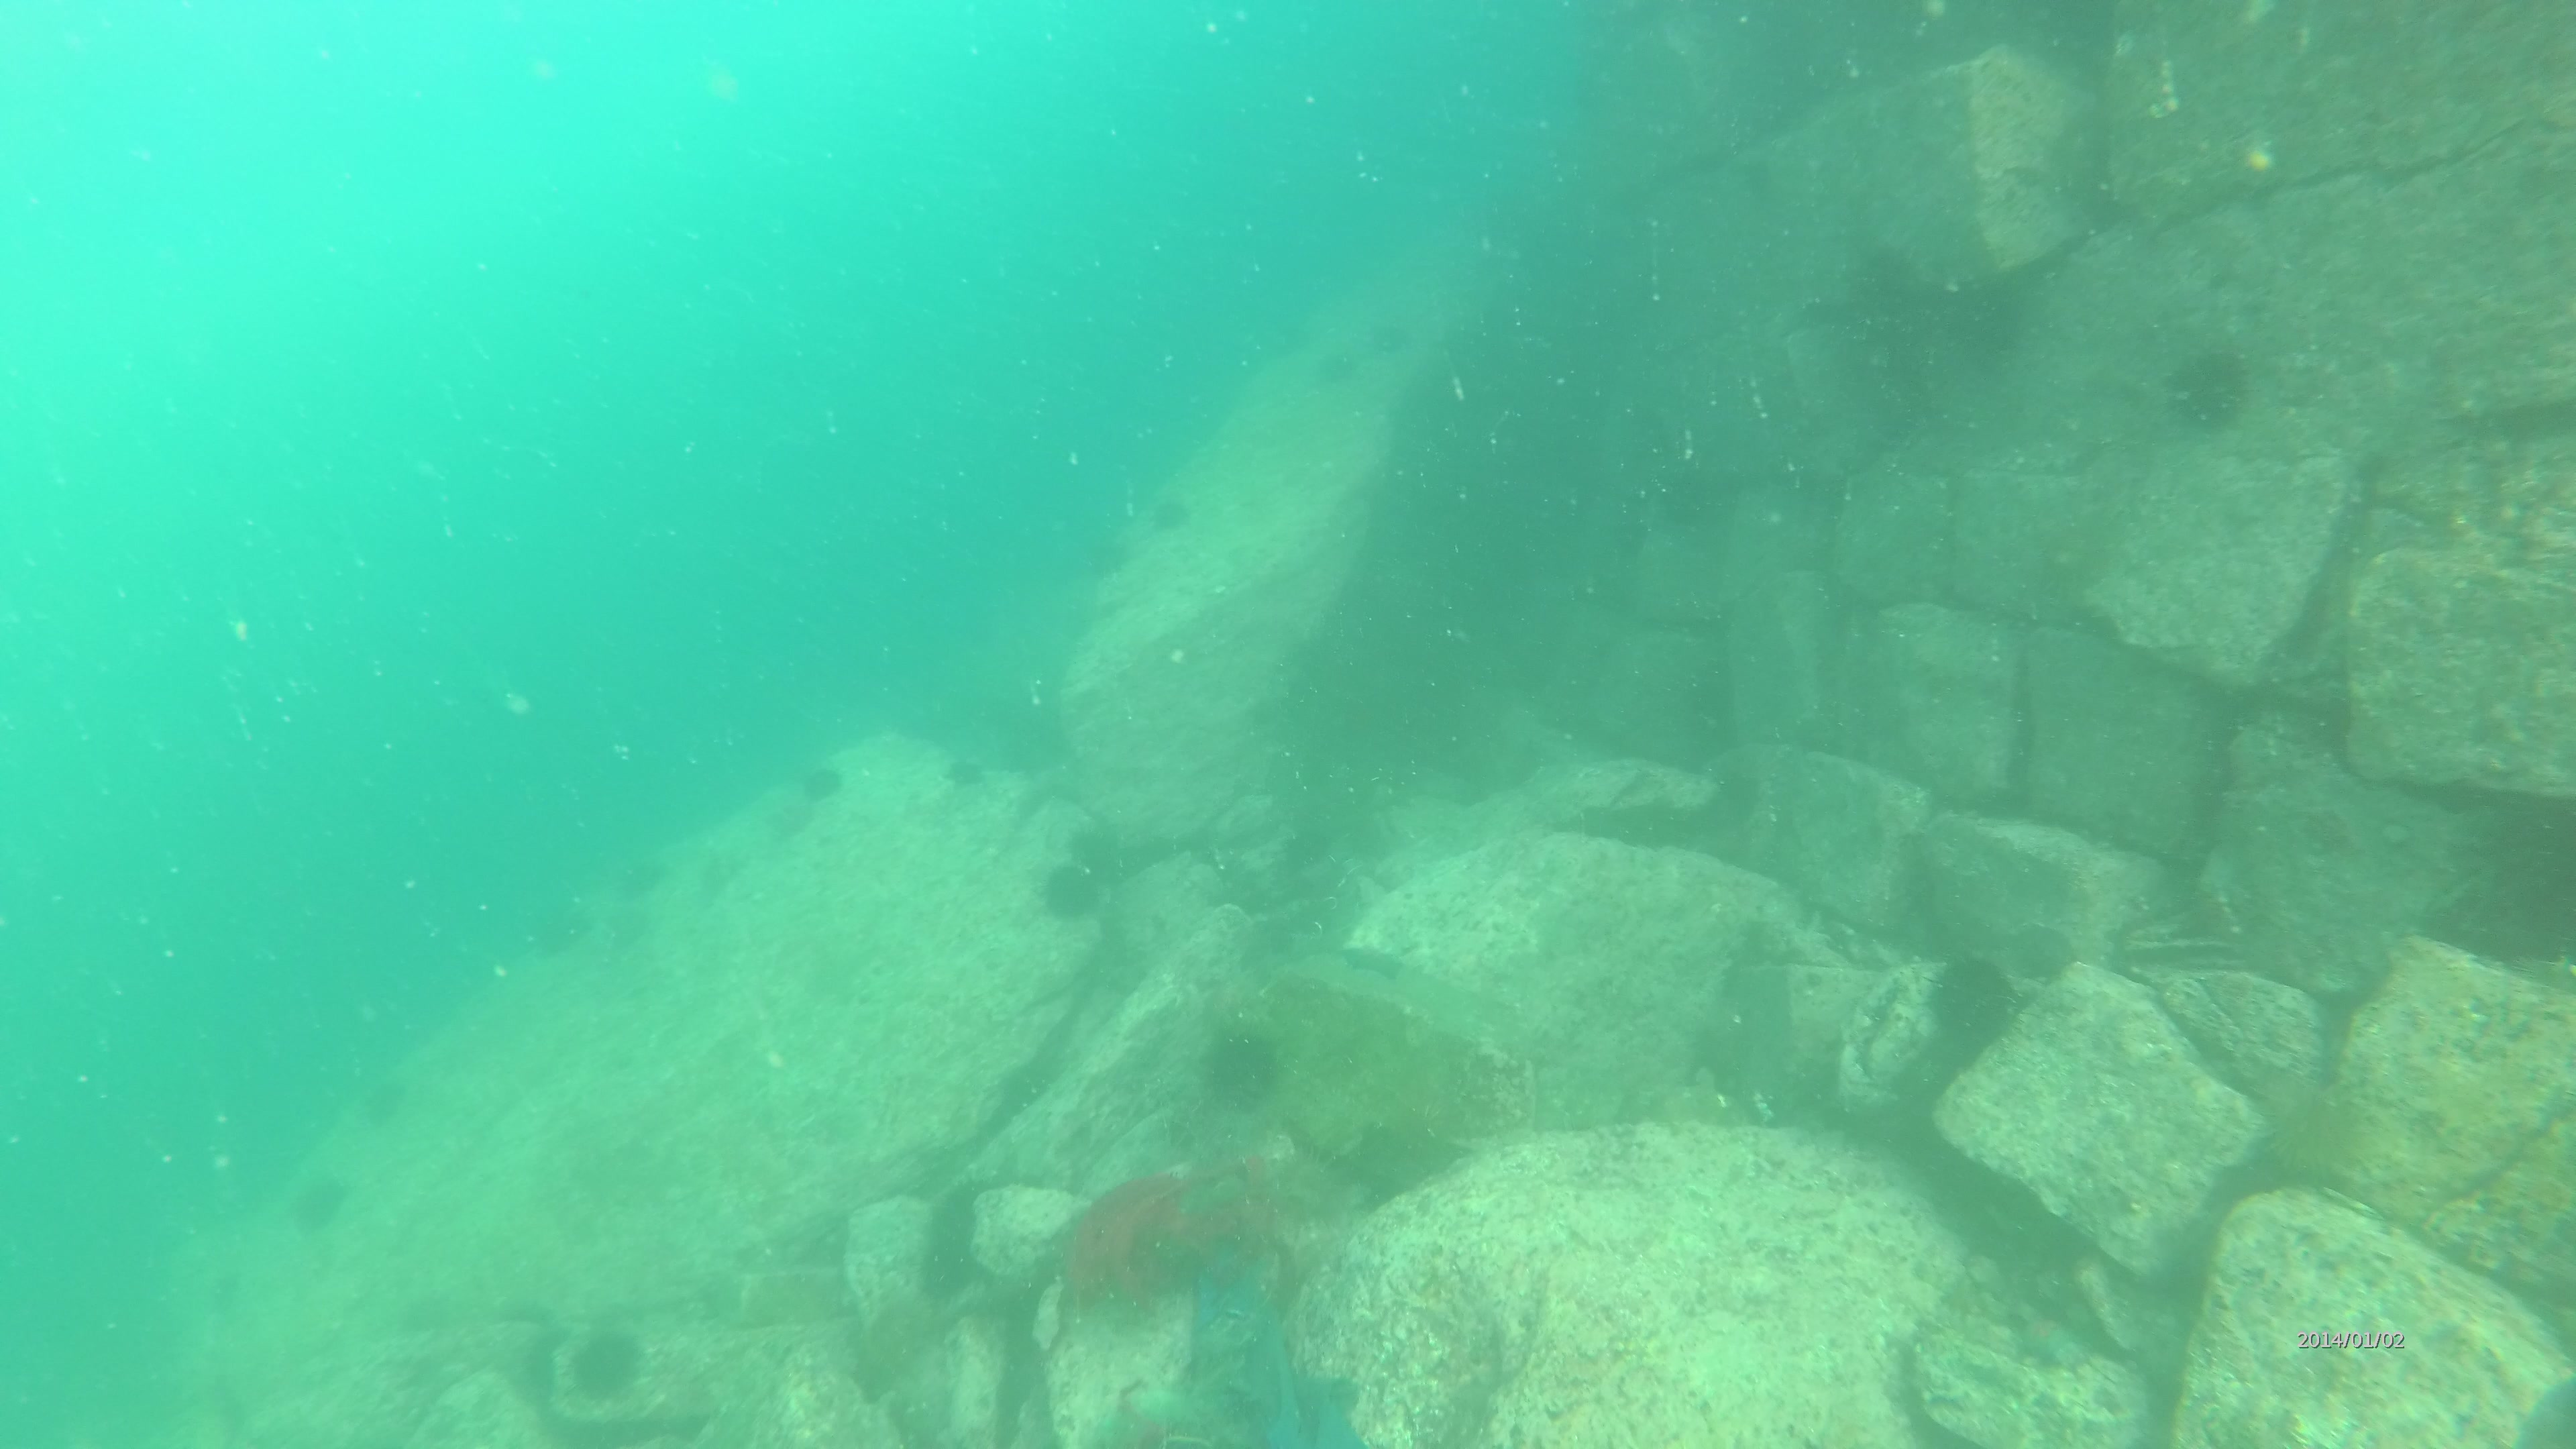echinus: (2256, 1079, 2376, 1196), (1936, 950, 2026, 1049), (2169, 340, 2259, 425), (1207, 1019, 1284, 1109), (1270, 1139, 1350, 1219), (1387, 1092, 1453, 1171), (570, 1330, 644, 1398), (1039, 862, 1100, 927), (1063, 821, 1116, 879)
